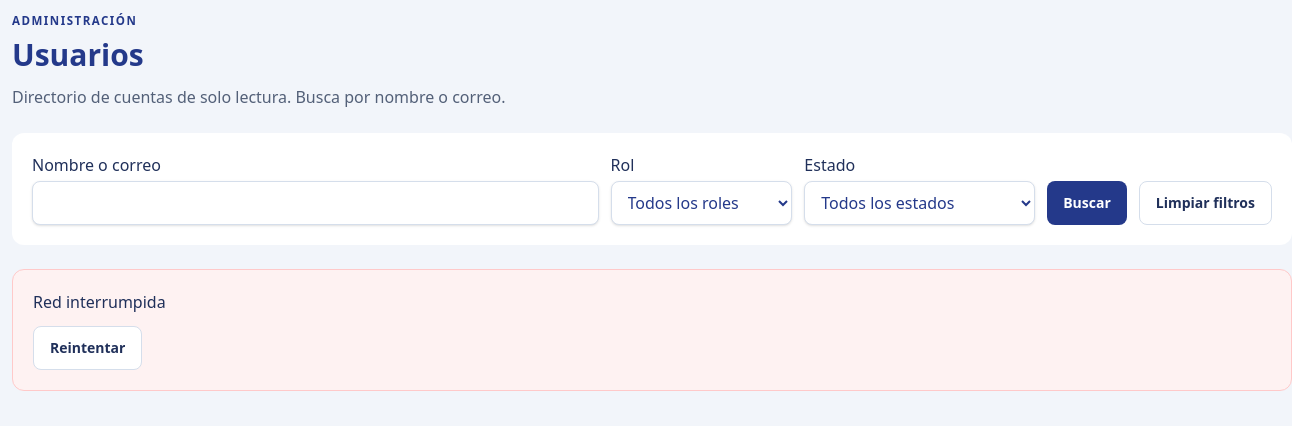
Test: Directorios de solo lectura › presenta error, reintento y vacío con navegación acotada
Expected: the message "Red interrumpida Reintentar" is shown, 12,269 -> 1291,391
Click the button "Reintentar" at x=88, y=348, box 33,326 -> 142,370
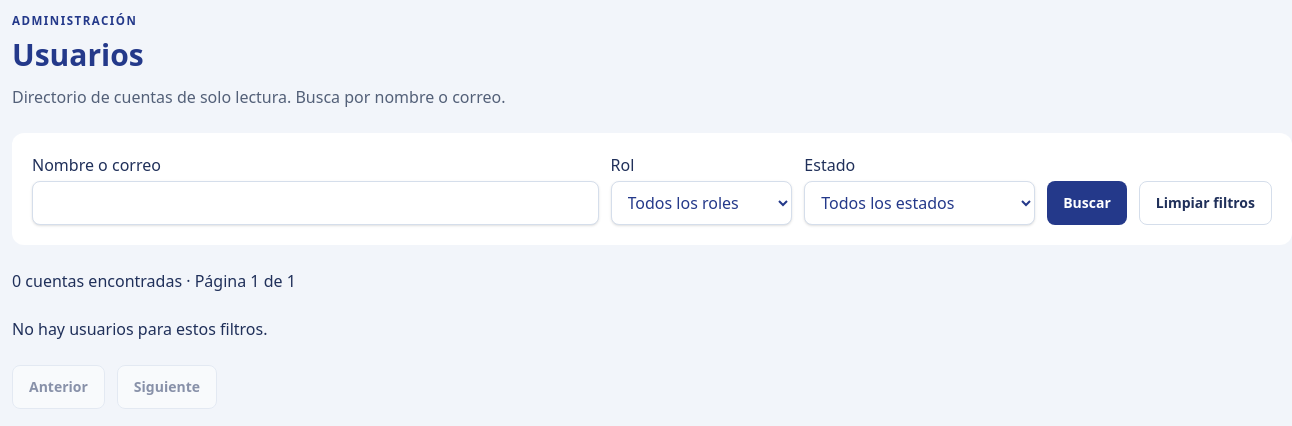
Result: the text "No hay usuarios para estos filtros." is shown at 12,318 -> 268,340
Result: the button "Anterior" is disabled at 12,365 -> 105,409
Result: the button "Siguiente" is disabled at 117,365 -> 217,409
